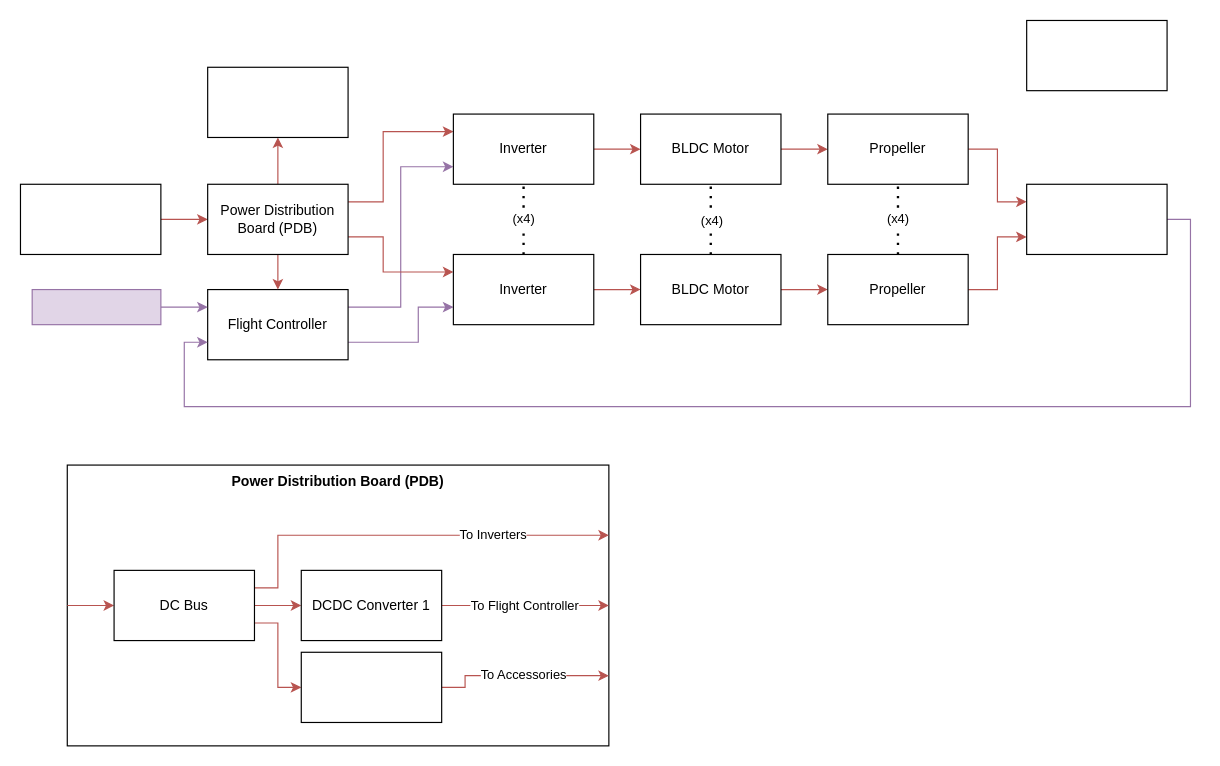
Some shapes in this 1220 by 766 pixel diagram are drawn without their labels. The centre of each missing label's shape, as x and y in pixels:
Accessories (FPV, Telemetry, etc...): pixel 277 101
Battery: pixel 90 218
DCDC Converter 2: pixel 371 686
Legend - Power - Data: pixel 1096 55
Mission/Reference: pixel 96 306
Physical Model: pixel 1096 218
